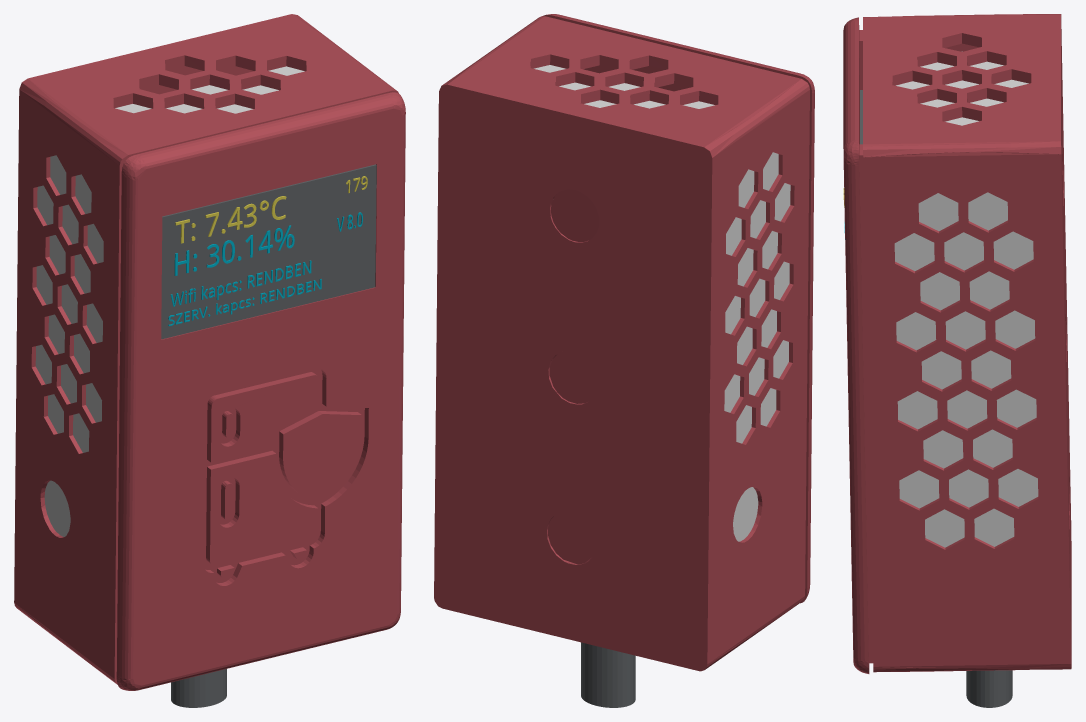
The model's file is piros_piros.glb.
3 renders of one model, left to right at view 1: azimuth 30°, elevation 25°; view 2: azimuth 150°, elevation 25°; view 3: azimuth 270°, elevation 25°, orthographic. The views are drawn at different scales.
Visible parts, largest first — view 1: Mesh_Mesh_head_geo.001_lambert2SG.001; view 2: Mesh_Mesh_head_geo.001_lambert2SG.001; view 3: Mesh_Mesh_head_geo.001_lambert2SG.001.
Part boxes in pixels (box(x1,y1,x2,y2)): Mesh_Mesh_head_geo.001_lambert2SG.001: box(14, 14, 405, 707); Mesh_Mesh_head_geo.001_lambert2SG.001: box(434, 14, 814, 707); Mesh_Mesh_head_geo.001_lambert2SG.001: box(843, 14, 1071, 707).
Size of the model in its own units: 33 by 70.15 by 23.52.
